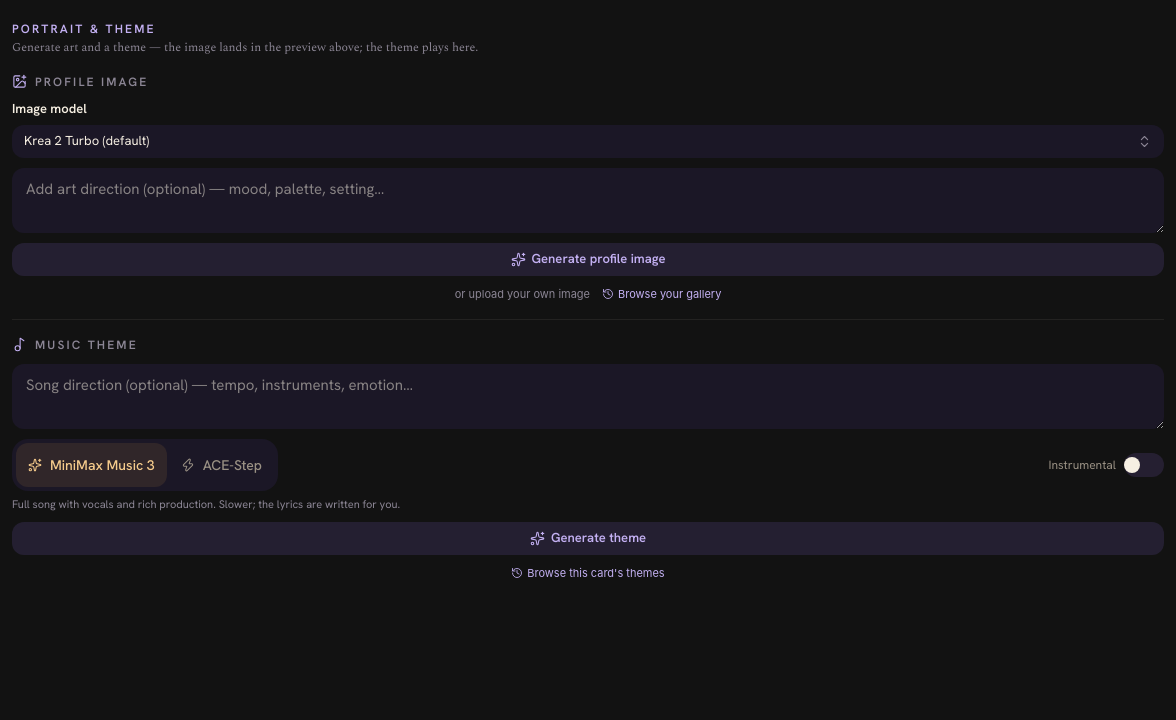
Test case: MediaStudioSection image model › shows a failed job’s own detail
This screenshot has width=1176, height=720.
Expected: the text "Krea 2 Turbo (default)" is shown, [24,132,149,149]
Click the button "Generate profile image" at (588, 260), box [12,243,1164,276]
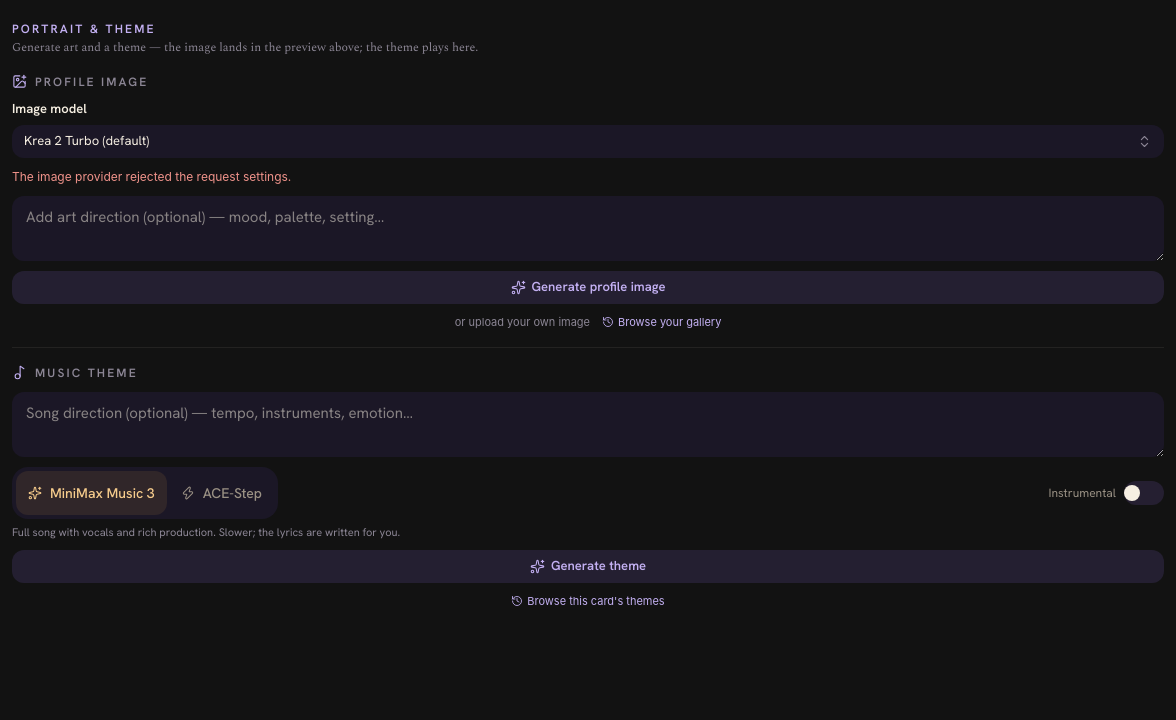
Expected: the message reads "The image provider rejected the request settings.", [12,169,291,184]
